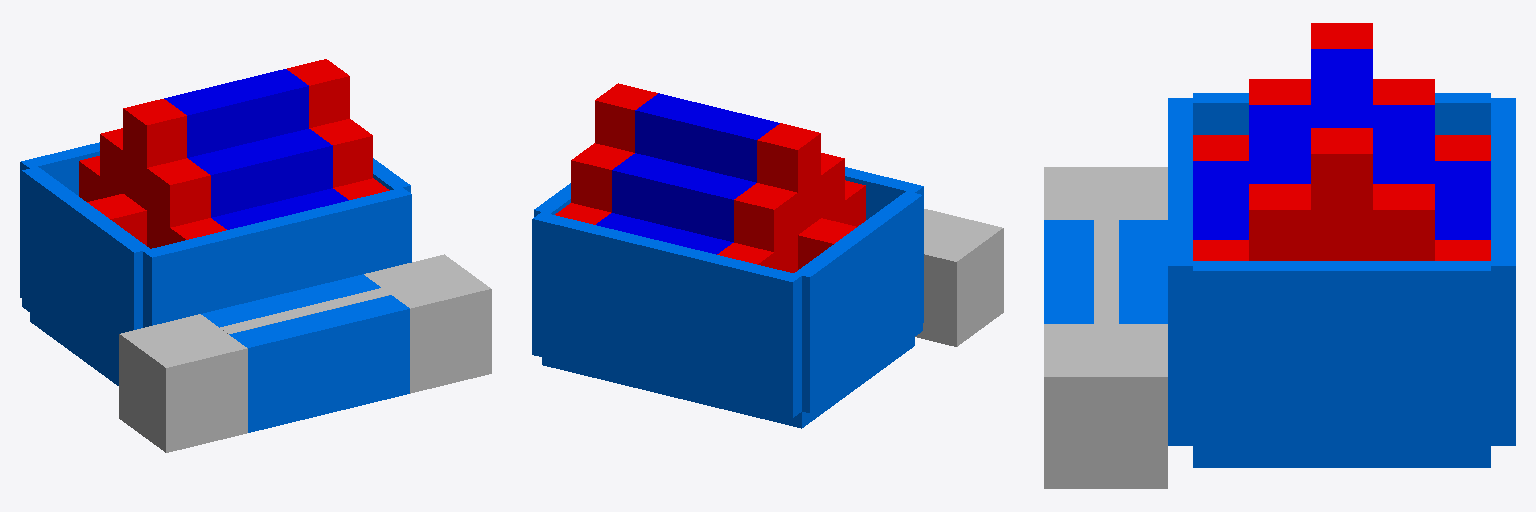
--- What the picture shows (computed from the rendered views, not written in the file) ---
Views: 3 orthographic renders of the robot side by side, from view 1: azimuth 30°, elevation 25°; view 2: azimuth 150°, elevation 25°; view 3: azimuth 270°, elevation 25°.
Robot: battery_box_snap_2unit — 6 links, 5 joints (5 fixed); root link middle_plastic; default pose: every joint at zero.
Visible links, largest first — view 1: box, battery, middle_plastic, start_metal, end_metal, line; view 2: box, battery, start_metal; view 3: box, battery, end_metal, middle_plastic, start_metal, line.
Link boxes in pixels (box(x1,y1,x2,y2)): box: box(20, 142, 411, 385); battery: box(79, 59, 389, 248); middle_plastic: box(201, 274, 409, 432); start_metal: box(119, 314, 247, 452); end_metal: box(364, 254, 491, 393); line: box(220, 288, 390, 333); box: box(532, 167, 923, 428); battery: box(555, 83, 865, 272); start_metal: box(915, 209, 1003, 346); box: box(1168, 93, 1515, 467); battery: box(1193, 23, 1490, 260); end_metal: box(1044, 324, 1167, 488); middle_plastic: box(1044, 220, 1167, 323); start_metal: box(1044, 167, 1167, 219); line: box(1094, 219, 1118, 323).
Size in the robot's own frame: 0.2 by 0.19 by 0.1375 metres.
Geometry: primitives only (box / cylinder / sphere), no mesh files.

robot.urdf — battery_box_snap_2unit:
<?xml version="1.0"?>
<robot name="battery_box_snap_2unit">

  <!-- Battery link -->

    <link name="battery">

        <!-- Battery pixel #0 -->
        <visual>
          <origin xyz="-0.05 0.0 -0.0625" rpy="0 0 0" />
          <geometry>
            <box size="0.025 0.025 0.025" />
          </geometry>
          <material name="battery_mat_0">
            <color rgba="1 0 0 1"/>
          </material>
        </visual>
        <collision>
          <origin xyz="-0.05 0.0 -0.0625" rpy="0 0 0" />
          <geometry>
            <box size="0.025 0.025 0.025" />
          </geometry>
        </collision>

        <!-- Battery pixel #1 -->
        <visual>
          <origin xyz="-0.025 -0.025 -0.0625" rpy="0 0 0" />
          <geometry>
            <box size="0.025 0.025 0.025" />
          </geometry>
          <material name="battery_mat_1">
            <color rgba="1 0 0 1"/>
          </material>
        </visual>
        <collision>
          <origin xyz="-0.025 -0.025 -0.0625" rpy="0 0 0" />
          <geometry>
            <box size="0.025 0.025 0.025" />
          </geometry>
        </collision>

        <!-- Battery pixel #2 -->
        <visual>
          <origin xyz="-0.025 0.0 -0.0625" rpy="0 0 0" />
          <geometry>
            <box size="0.025 0.025 0.025" />
          </geometry>
          <material name="battery_mat_2">
            <color rgba="1 0 0 1"/>
          </material>
        </visual>
        <collision>
          <origin xyz="-0.025 0.0 -0.0625" rpy="0 0 0" />
          <geometry>
            <box size="0.025 0.025 0.025" />
          </geometry>
        </collision>

        <!-- Battery pixel #3 -->
        <visual>
          <origin xyz="-0.025 0.025 -0.0625" rpy="0 0 0" />
          <geometry>
            <box size="0.025 0.025 0.025" />
          </geometry>
          <material name="battery_mat_3">
            <color rgba="1 0 0 1"/>
          </material>
        </visual>
        <collision>
          <origin xyz="-0.025 0.025 -0.0625" rpy="0 0 0" />
          <geometry>
            <box size="0.025 0.025 0.025" />
          </geometry>
        </collision>

        <!-- Battery pixel #4 -->
        <visual>
          <origin xyz="0.0 -0.05 -0.0625" rpy="0 0 0" />
          <geometry>
            <box size="0.025 0.025 0.025" />
          </geometry>
          <material name="battery_mat_4">
            <color rgba="1 0 0 1"/>
          </material>
        </visual>
        <collision>
          <origin xyz="0.0 -0.05 -0.0625" rpy="0 0 0" />
          <geometry>
            <box size="0.025 0.025 0.025" />
          </geometry>
        </collision>

        <!-- Battery pixel #5 -->
        <visual>
          <origin xyz="0.0 -0.025 -0.0625" rpy="0 0 0" />
          <geometry>
            <box size="0.025 0.025 0.025" />
          </geometry>
          <material name="battery_mat_5">
            <color rgba="1 0 0 1"/>
          </material>
        </visual>
        <collision>
          <origin xyz="0.0 -0.025 -0.0625" rpy="0 0 0" />
          <geometry>
            <box size="0.025 0.025 0.025" />
          </geometry>
        </collision>

        <!-- Battery pixel #6 -->
        <visual>
          <origin xyz="0.0 0.0 -0.0625" rpy="0 0 0" />
          <geometry>
            <box size="0.025 0.025 0.025" />
          </geometry>
          <material name="battery_mat_6">
            <color rgba="1 0 0 1"/>
          </material>
        </visual>
        <collision>
          <origin xyz="0.0 0.0 -0.0625" rpy="0 0 0" />
          <geometry>
            <box size="0.025 0.025 0.025" />
          </geometry>
        </collision>

        <!-- Battery pixel #7 -->
        <visual>
          <origin xyz="0.0 0.025 -0.0625" rpy="0 0 0" />
          <geometry>
            <box size="0.025 0.025 0.025" />
          </geometry>
          <material name="battery_mat_7">
            <color rgba="1 0 0 1"/>
          </material>
        </visual>
        <collision>
          <origin xyz="0.0 0.025 -0.0625" rpy="0 0 0" />
          <geometry>
            <box size="0.025 0.025 0.025" />
          </geometry>
        </collision>

        <!-- Battery pixel #8 -->
        <visual>
          <origin xyz="0.0 0.05 -0.0625" rpy="0 0 0" />
          <geometry>
            <box size="0.025 0.025 0.025" />
          </geometry>
          <material name="battery_mat_8">
            <color rgba="1 0 0 1"/>
          </material>
        </visual>
        <collision>
          <origin xyz="0.0 0.05 -0.0625" rpy="0 0 0" />
          <geometry>
            <box size="0.025 0.025 0.025" />
          </geometry>
        </collision>

        <!-- Battery pixel #9 -->
        <visual>
          <origin xyz="0.025 -0.025 -0.0625" rpy="0 0 0" />
          <geometry>
            <box size="0.025 0.025 0.025" />
          </geometry>
          <material name="battery_mat_9">
            <color rgba="1 0 0 1"/>
          </material>
        </visual>
        <collision>
          <origin xyz="0.025 -0.025 -0.0625" rpy="0 0 0" />
          <geometry>
            <box size="0.025 0.025 0.025" />
          </geometry>
        </collision>

        <!-- Battery pixel #10 -->
        <visual>
          <origin xyz="0.025 0.0 -0.0625" rpy="0 0 0" />
          <geometry>
            <box size="0.025 0.025 0.025" />
          </geometry>
          <material name="battery_mat_10">
            <color rgba="1 0 0 1"/>
          </material>
        </visual>
        <collision>
          <origin xyz="0.025 0.0 -0.0625" rpy="0 0 0" />
          <geometry>
            <box size="0.025 0.025 0.025" />
          </geometry>
        </collision>

        <!-- Battery pixel #11 -->
        <visual>
          <origin xyz="0.025 0.025 -0.0625" rpy="0 0 0" />
          <geometry>
            <box size="0.025 0.025 0.025" />
          </geometry>
          <material name="battery_mat_11">
            <color rgba="1 0 0 1"/>
          </material>
        </visual>
        <collision>
          <origin xyz="0.025 0.025 -0.0625" rpy="0 0 0" />
          <geometry>
            <box size="0.025 0.025 0.025" />
          </geometry>
        </collision>

        <!-- Battery pixel #12 -->
        <visual>
          <origin xyz="0.05 0.0 -0.0625" rpy="0 0 0" />
          <geometry>
            <box size="0.025 0.025 0.025" />
          </geometry>
          <material name="battery_mat_12">
            <color rgba="1 0 0 1"/>
          </material>
        </visual>
        <collision>
          <origin xyz="0.05 0.0 -0.0625" rpy="0 0 0" />
          <geometry>
            <box size="0.025 0.025 0.025" />
          </geometry>
        </collision>

        <!-- Battery pixel #13 -->
        <visual>
          <origin xyz="-0.05 0.0 -0.0375" rpy="0 0 0" />
          <geometry>
            <box size="0.025 0.025 0.025" />
          </geometry>
          <material name="battery_mat_13">
            <color rgba="0 0 1 1"/>
          </material>
        </visual>
        <collision>
          <origin xyz="-0.05 0.0 -0.0375" rpy="0 0 0" />
          <geometry>
            <box size="0.025 0.025 0.025" />
          </geometry>
        </collision>

        <!-- Battery pixel #14 -->
        <visual>
          <origin xyz="-0.025 -0.025 -0.0375" rpy="0 0 0" />
          <geometry>
            <box size="0.025 0.025 0.025" />
          </geometry>
          <material name="battery_mat_14">
            <color rgba="0 0 1 1"/>
          </material>
        </visual>
        <collision>
          <origin xyz="-0.025 -0.025 -0.0375" rpy="0 0 0" />
          <geometry>
            <box size="0.025 0.025 0.025" />
          </geometry>
        </collision>

        <!-- Battery pixel #15 -->
        <visual>
          <origin xyz="-0.025 0.0 -0.0375" rpy="0 0 0" />
          <geometry>
            <box size="0.025 0.025 0.025" />
          </geometry>
          <material name="battery_mat_15">
            <color rgba="0 0 1 1"/>
          </material>
        </visual>
        <collision>
          <origin xyz="-0.025 0.0 -0.0375" rpy="0 0 0" />
          <geometry>
            <box size="0.025 0.025 0.025" />
          </geometry>
        </collision>

        <!-- Battery pixel #16 -->
        <visual>
          <origin xyz="-0.025 0.025 -0.0375" rpy="0 0 0" />
          <geometry>
            <box size="0.025 0.025 0.025" />
          </geometry>
          <material name="battery_mat_16">
            <color rgba="0 0 1 1"/>
          </material>
        </visual>
        <collision>
          <origin xyz="-0.025 0.025 -0.0375" rpy="0 0 0" />
          <geometry>
            <box size="0.025 0.025 0.025" />
          </geometry>
        </collision>

        <!-- Battery pixel #17 -->
        <visual>
          <origin xyz="0.0 -0.05 -0.0375" rpy="0 0 0" />
          <geometry>
            <box size="0.025 0.025 0.025" />
          </geometry>
          <material name="battery_mat_17">
            <color rgba="0 0 1 1"/>
          </material>
        </visual>
        <collision>
          <origin xyz="0.0 -0.05 -0.0375" rpy="0 0 0" />
          <geometry>
            <box size="0.025 0.025 0.025" />
          </geometry>
        </collision>

        <!-- Battery pixel #18 -->
        <visual>
          <origin xyz="0.0 -0.025 -0.0375" rpy="0 0 0" />
          <geometry>
            <box size="0.025 0.025 0.025" />
          </geometry>
          <material name="battery_mat_18">
            <color rgba="0 0 1 1"/>
          </material>
        </visual>
        <collision>
          <origin xyz="0.0 -0.025 -0.0375" rpy="0 0 0" />
          <geometry>
            <box size="0.025 0.025 0.025" />
          </geometry>
        </collision>

        <!-- Battery pixel #19 -->
        <visual>
          <origin xyz="0.0 0.0 -0.0375" rpy="0 0 0" />
          <geometry>
            <box size="0.025 0.025 0.025" />
          </geometry>
          <material name="battery_mat_19">
            <color rgba="0 0 1 1"/>
          </material>
        </visual>
        <collision>
          <origin xyz="0.0 0.0 -0.0375" rpy="0 0 0" />
          <geometry>
            <box size="0.025 0.025 0.025" />
          </geometry>
        </collision>

        <!-- Battery pixel #20 -->
        <visual>
          <origin xyz="0.0 0.025 -0.0375" rpy="0 0 0" />
          <geometry>
            <box size="0.025 0.025 0.025" />
          </geometry>
          <material name="battery_mat_20">
            <color rgba="0 0 1 1"/>
          </material>
        </visual>
        <collision>
          <origin xyz="0.0 0.025 -0.0375" rpy="0 0 0" />
          <geometry>
            <box size="0.025 0.025 0.025" />
          </geometry>
        </collision>

        <!-- Battery pixel #21 -->
        <visual>
          <origin xyz="0.0 0.05 -0.0375" rpy="0 0 0" />
          <geometry>
            <box size="0.025 0.025 0.025" />
          </geometry>
          <material name="battery_mat_21">
            <color rgba="0 0 1 1"/>
          </material>
        </visual>
        <collision>
          <origin xyz="0.0 0.05 -0.0375" rpy="0 0 0" />
          <geometry>
            <box size="0.025 0.025 0.025" />
          </geometry>
        </collision>

        <!-- Battery pixel #22 -->
        <visual>
          <origin xyz="0.025 -0.025 -0.0375" rpy="0 0 0" />
          <geometry>
            <box size="0.025 0.025 0.025" />
          </geometry>
          <material name="battery_mat_22">
            <color rgba="0 0 1 1"/>
          </material>
        </visual>
        <collision>
          <origin xyz="0.025 -0.025 -0.0375" rpy="0 0 0" />
          <geometry>
            <box size="0.025 0.025 0.025" />
          </geometry>
        </collision>

        <!-- Battery pixel #23 -->
        <visual>
          <origin xyz="0.025 0.0 -0.0375" rpy="0 0 0" />
          <geometry>
            <box size="0.025 0.025 0.025" />
          </geometry>
          <material name="battery_mat_23">
            <color rgba="0 0 1 1"/>
          </material>
        </visual>
        <collision>
          <origin xyz="0.025 0.0 -0.0375" rpy="0 0 0" />
          <geometry>
            <box size="0.025 0.025 0.025" />
          </geometry>
        </collision>

        <!-- Battery pixel #24 -->
        <visual>
          <origin xyz="0.025 0.025 -0.0375" rpy="0 0 0" />
          <geometry>
            <box size="0.025 0.025 0.025" />
          </geometry>
          <material name="battery_mat_24">
            <color rgba="0 0 1 1"/>
          </material>
        </visual>
        <collision>
          <origin xyz="0.025 0.025 -0.0375" rpy="0 0 0" />
          <geometry>
            <box size="0.025 0.025 0.025" />
          </geometry>
        </collision>

        <!-- Battery pixel #25 -->
        <visual>
          <origin xyz="0.05 0.0 -0.0375" rpy="0 0 0" />
          <geometry>
            <box size="0.025 0.025 0.025" />
          </geometry>
          <material name="battery_mat_25">
            <color rgba="0 0 1 1"/>
          </material>
        </visual>
        <collision>
          <origin xyz="0.05 0.0 -0.0375" rpy="0 0 0" />
          <geometry>
            <box size="0.025 0.025 0.025" />
          </geometry>
        </collision>

        <!-- Battery pixel #26 -->
        <visual>
          <origin xyz="-0.05 0.0 -0.012499999999999997" rpy="0 0 0" />
          <geometry>
            <box size="0.025 0.025 0.025" />
          </geometry>
          <material name="battery_mat_26">
            <color rgba="0 0 1 1"/>
          </material>
        </visual>
        <collision>
          <origin xyz="-0.05 0.0 -0.012499999999999997" rpy="0 0 0" />
          <geometry>
            <box size="0.025 0.025 0.025" />
          </geometry>
        </collision>

        <!-- Battery pixel #27 -->
        <visual>
          <origin xyz="-0.025 -0.025 -0.012499999999999997" rpy="0 0 0" />
          <geometry>
            <box size="0.025 0.025 0.025" />
          </geometry>
          <material name="battery_mat_27">
            <color rgba="0 0 1 1"/>
          </material>
        </visual>
        <collision>
          <origin xyz="-0.025 -0.025 -0.012499999999999997" rpy="0 0 0" />
          <geometry>
            <box size="0.025 0.025 0.025" />
          </geometry>
        </collision>

        <!-- Battery pixel #28 -->
        <visual>
          <origin xyz="-0.025 0.0 -0.012499999999999997" rpy="0 0 0" />
          <geometry>
            <box size="0.025 0.025 0.025" />
          </geometry>
          <material name="battery_mat_28">
            <color rgba="0 0 1 1"/>
          </material>
        </visual>
        <collision>
          <origin xyz="-0.025 0.0 -0.012499999999999997" rpy="0 0 0" />
          <geometry>
            <box size="0.025 0.025 0.025" />
          </geometry>
        </collision>

        <!-- Battery pixel #29 -->
        <visual>
          <origin xyz="-0.025 0.025 -0.012499999999999997" rpy="0 0 0" />
          <geometry>
            <box size="0.025 0.025 0.025" />
          </geometry>
          <material name="battery_mat_29">
            <color rgba="0 0 1 1"/>
          </material>
        </visual>
        <collision>
          <origin xyz="-0.025 0.025 -0.012499999999999997" rpy="0 0 0" />
          <geometry>
            <box size="0.025 0.025 0.025" />
          </geometry>
        </collision>

        <!-- Battery pixel #30 -->
        <visual>
          <origin xyz="0.0 -0.05 -0.012499999999999997" rpy="0 0 0" />
          <geometry>
            <box size="0.025 0.025 0.025" />
          </geometry>
          <material name="battery_mat_30">
            <color rgba="0 0 1 1"/>
          </material>
        </visual>
        <collision>
          <origin xyz="0.0 -0.05 -0.012499999999999997" rpy="0 0 0" />
          <geometry>
            <box size="0.025 0.025 0.025" />
          </geometry>
        </collision>

        <!-- Battery pixel #31 -->
        <visual>
          <origin xyz="0.0 -0.025 -0.012499999999999997" rpy="0 0 0" />
          <geometry>
            <box size="0.025 0.025 0.025" />
          </geometry>
          <material name="battery_mat_31">
            <color rgba="0 0 1 1"/>
          </material>
        </visual>
        <collision>
          <origin xyz="0.0 -0.025 -0.012499999999999997" rpy="0 0 0" />
          <geometry>
            <box size="0.025 0.025 0.025" />
          </geometry>
        </collision>

        <!-- Battery pixel #32 -->
        <visual>
          <origin xyz="0.0 0.0 -0.012499999999999997" rpy="0 0 0" />
          <geometry>
            <box size="0.025 0.025 0.025" />
          </geometry>
          <material name="battery_mat_32">
            <color rgba="0 0 1 1"/>
          </material>
        </visual>
        <collision>
          <origin xyz="0.0 0.0 -0.012499999999999997" rpy="0 0 0" />
          <geometry>
            <box size="0.025 0.025 0.025" />
          </geometry>
        </collision>

        <!-- Battery pixel #33 -->
        <visual>
          <origin xyz="0.0 0.025 -0.012499999999999997" rpy="0 0 0" />
          <geometry>
            <box size="0.025 0.025 0.025" />
          </geometry>
          <material name="battery_mat_33">
            <color rgba="0 0 1 1"/>
          </material>
        </visual>
        <collision>
          <origin xyz="0.0 0.025 -0.012499999999999997" rpy="0 0 0" />
          <geometry>
            <box size="0.025 0.025 0.025" />
          </geometry>
        </collision>

        <!-- Battery pixel #34 -->
        <visual>
          <origin xyz="0.0 0.05 -0.012499999999999997" rpy="0 0 0" />
          <geometry>
            <box size="0.025 0.025 0.025" />
          </geometry>
          <material name="battery_mat_34">
            <color rgba="0 0 1 1"/>
          </material>
        </visual>
        <collision>
          <origin xyz="0.0 0.05 -0.012499999999999997" rpy="0 0 0" />
          <geometry>
            <box size="0.025 0.025 0.025" />
          </geometry>
        </collision>

        <!-- Battery pixel #35 -->
        <visual>
          <origin xyz="0.025 -0.025 -0.012499999999999997" rpy="0 0 0" />
          <geometry>
            <box size="0.025 0.025 0.025" />
          </geometry>
          <material name="battery_mat_35">
            <color rgba="0 0 1 1"/>
          </material>
        </visual>
        <collision>
          <origin xyz="0.025 -0.025 -0.012499999999999997" rpy="0 0 0" />
          <geometry>
            <box size="0.025 0.025 0.025" />
          </geometry>
        </collision>

        <!-- Battery pixel #36 -->
        <visual>
          <origin xyz="0.025 0.0 -0.012499999999999997" rpy="0 0 0" />
          <geometry>
            <box size="0.025 0.025 0.025" />
          </geometry>
          <material name="battery_mat_36">
            <color rgba="0 0 1 1"/>
          </material>
        </visual>
        <collision>
          <origin xyz="0.025 0.0 -0.012499999999999997" rpy="0 0 0" />
          <geometry>
            <box size="0.025 0.025 0.025" />
          </geometry>
        </collision>

        <!-- Battery pixel #37 -->
        <visual>
          <origin xyz="0.025 0.025 -0.012499999999999997" rpy="0 0 0" />
          <geometry>
            <box size="0.025 0.025 0.025" />
          </geometry>
          <material name="battery_mat_37">
            <color rgba="0 0 1 1"/>
          </material>
        </visual>
        <collision>
          <origin xyz="0.025 0.025 -0.012499999999999997" rpy="0 0 0" />
          <geometry>
            <box size="0.025 0.025 0.025" />
          </geometry>
        </collision>

        <!-- Battery pixel #38 -->
        <visual>
          <origin xyz="0.05 0.0 -0.012499999999999997" rpy="0 0 0" />
          <geometry>
            <box size="0.025 0.025 0.025" />
          </geometry>
          <material name="battery_mat_38">
            <color rgba="0 0 1 1"/>
          </material>
        </visual>
        <collision>
          <origin xyz="0.05 0.0 -0.012499999999999997" rpy="0 0 0" />
          <geometry>
            <box size="0.025 0.025 0.025" />
          </geometry>
        </collision>

        <!-- Battery pixel #39 -->
        <visual>
          <origin xyz="-0.05 0.0 0.012500000000000004" rpy="0 0 0" />
          <geometry>
            <box size="0.025 0.025 0.025" />
          </geometry>
          <material name="battery_mat_39">
            <color rgba="0 0 1 1"/>
          </material>
        </visual>
        <collision>
          <origin xyz="-0.05 0.0 0.012500000000000004" rpy="0 0 0" />
          <geometry>
            <box size="0.025 0.025 0.025" />
          </geometry>
        </collision>

        <!-- Battery pixel #40 -->
        <visual>
          <origin xyz="-0.025 -0.025 0.012500000000000004" rpy="0 0 0" />
          <geometry>
            <box size="0.025 0.025 0.025" />
          </geometry>
          <material name="battery_mat_40">
            <color rgba="0 0 1 1"/>
          </material>
        </visual>
        <collision>
          <origin xyz="-0.025 -0.025 0.012500000000000004" rpy="0 0 0" />
          <geometry>
            <box size="0.025 0.025 0.025" />
          </geometry>
        </collision>

        <!-- Battery pixel #41 -->
        <visual>
          <origin xyz="-0.025 0.0 0.012500000000000004" rpy="0 0 0" />
          <geometry>
            <box size="0.025 0.025 0.025" />
          </geometry>
          <material name="battery_mat_41">
            <color rgba="0 0 1 1"/>
          </material>
        </visual>
        <collision>
          <origin xyz="-0.025 0.0 0.012500000000000004" rpy="0 0 0" />
          <geometry>
            <box size="0.025 0.025 0.025" />
          </geometry>
        </collision>

        <!-- Battery pixel #42 -->
        <visual>
          <origin xyz="-0.025 0.025 0.012500000000000004" rpy="0 0 0" />
          <geometry>
            <box size="0.025 0.025 0.025" />
          </geometry>
          <material name="battery_mat_42">
            <color rgba="0 0 1 1"/>
          </material>
        </visual>
        <collision>
          <origin xyz="-0.025 0.025 0.012500000000000004" rpy="0 0 0" />
          <geometry>
            <box size="0.025 0.025 0.025" />
          </geometry>
        </collision>

        <!-- Battery pixel #43 -->
        <visual>
          <origin xyz="0.0 -0.05 0.012500000000000004" rpy="0 0 0" />
          <geometry>
            <box size="0.025 0.025 0.025" />
          </geometry>
          <material name="battery_mat_43">
            <color rgba="0 0 1 1"/>
          </material>
        </visual>
        <collision>
          <origin xyz="0.0 -0.05 0.012500000000000004" rpy="0 0 0" />
          <geometry>
            <box size="0.025 0.025 0.025" />
          </geometry>
        </collision>

        <!-- Battery pixel #44 -->
        <visual>
          <origin xyz="0.0 -0.025 0.012500000000000004" rpy="0 0 0" />
          <geometry>
            <box size="0.025 0.025 0.025" />
          </geometry>
          <material name="battery_mat_44">
            <color rgba="0 0 1 1"/>
          </material>
        </visual>
        <collision>
          <origin xyz="0.0 -0.025 0.012500000000000004" rpy="0 0 0" />
          <geometry>
            <box size="0.025 0.025 0.025" />
          </geometry>
        </collision>

        <!-- Battery pixel #45 -->
        <visual>
          <origin xyz="0.0 0.0 0.012500000000000004" rpy="0 0 0" />
          <geometry>
            <box size="0.025 0.025 0.025" />
          </geometry>
          <material name="battery_mat_45">
            <color rgba="0 0 1 1"/>
          </material>
        </visual>
        <collision>
          <origin xyz="0.0 0.0 0.012500000000000004" rpy="0 0 0" />
          <geometry>
            <box size="0.025 0.025 0.025" />
          </geometry>
        </collision>

        <!-- Battery pixel #46 -->
        <visual>
          <origin xyz="0.0 0.025 0.012500000000000004" rpy="0 0 0" />
          <geometry>
            <box size="0.025 0.025 0.025" />
          </geometry>
          <material name="battery_mat_46">
            <color rgba="0 0 1 1"/>
          </material>
        </visual>
        <collision>
          <origin xyz="0.0 0.025 0.012500000000000004" rpy="0 0 0" />
          <geometry>
            <box size="0.025 0.025 0.025" />
          </geometry>
        </collision>

        <!-- Battery pixel #47 -->
        <visual>
          <origin xyz="0.0 0.05 0.012500000000000004" rpy="0 0 0" />
          <geometry>
            <box size="0.025 0.025 0.025" />
          </geometry>
          <material name="battery_mat_47">
            <color rgba="0 0 1 1"/>
          </material>
        </visual>
        <collision>
          <origin xyz="0.0 0.05 0.012500000000000004" rpy="0 0 0" />
          <geometry>
            <box size="0.025 0.025 0.025" />
          </geometry>
        </collision>

        <!-- Battery pixel #48 -->
        <visual>
          <origin xyz="0.025 -0.025 0.012500000000000004" rpy="0 0 0" />
          <geometry>
            <box size="0.025 0.025 0.025" />
          </geometry>
          <material name="battery_mat_48">
            <color rgba="0 0 1 1"/>
          </material>
        </visual>
        <collision>
          <origin xyz="0.025 -0.025 0.012500000000000004" rpy="0 0 0" />
          <geometry>
            <box size="0.025 0.025 0.025" />
          </geometry>
        </collision>

        <!-- Battery pixel #49 -->
        <visual>
          <origin xyz="0.025 0.0 0.012500000000000004" rpy="0 0 0" />
          <geometry>
            <box size="0.025 0.025 0.025" />
          </geometry>
          <material name="battery_mat_49">
            <color rgba="0 0 1 1"/>
          </material>
        </visual>
        <collision>
          <origin xyz="0.025 0.0 0.012500000000000004" rpy="0 0 0" />
          <geometry>
            <box size="0.025 0.025 0.025" />
          </geometry>
        </collision>

        <!-- Battery pixel #50 -->
        <visual>
          <origin xyz="0.025 0.025 0.012500000000000004" rpy="0 0 0" />
          <geometry>
            <box size="0.025 0.025 0.025" />
          </geometry>
          <material name="battery_mat_50">
            <color rgba="0 0 1 1"/>
          </material>
        </visual>
        <collision>
          <origin xyz="0.025 0.025 0.012500000000000004" rpy="0 0 0" />
          <geometry>
            <box size="0.025 0.025 0.025" />
          </geometry>
        </collision>

        <!-- Battery pixel #51 -->
        <visual>
          <origin xyz="0.05 0.0 0.012500000000000004" rpy="0 0 0" />
          <geometry>
            <box size="0.025 0.025 0.025" />
          </geometry>
          <material name="battery_mat_51">
            <color rgba="0 0 1 1"/>
          </material>
        </visual>
        <collision>
          <origin xyz="0.05 0.0 0.012500000000000004" rpy="0 0 0" />
          <geometry>
            <box size="0.025 0.025 0.025" />
          </geometry>
        </collision>

        <!-- Battery pixel #52 -->
        <visual>
          <origin xyz="-0.05 0.0 0.0375" rpy="0 0 0" />
          <geometry>
            <box size="0.025 0.025 0.025" />
          </geometry>
          <material name="battery_mat_52">
            <color rgba="1 0 0 1"/>
          </material>
        </visual>
        <collision>
          <origin xyz="-0.05 0.0 0.0375" rpy="0 0 0" />
          <geometry>
            <box size="0.025 0.025 0.025" />
          </geometry>
        </collision>

        <!-- Battery pixel #53 -->
        <visual>
          <origin xyz="-0.025 -0.025 0.0375" rpy="0 0 0" />
          <geometry>
            <box size="0.025 0.025 0.025" />
          </geometry>
          <material name="battery_mat_53">
            <color rgba="1 0 0 1"/>
          </material>
        </visual>
        <collision>
          <origin xyz="-0.025 -0.025 0.0375" rpy="0 0 0" />
          <geometry>
            <box size="0.025 0.025 0.025" />
          </geometry>
        </collision>

        <!-- Battery pixel #54 -->
        <visual>
          <origin xyz="-0.025 0.0 0.0375" rpy="0 0 0" />
          <geometry>
            <box size="0.025 0.025 0.025" />
          </geometry>
          <material name="battery_mat_54">
            <color rgba="1 0 0 1"/>
          </material>
        </visual>
        <collision>
          <origin xyz="-0.025 0.0 0.0375" rpy="0 0 0" />
          <geometry>
            <box size="0.025 0.025 0.025" />
          </geometry>
        </collision>

        <!-- Battery pixel #55 -->
        <visual>
          <origin xyz="-0.025 0.025 0.0375" rpy="0 0 0" />
          <geometry>
            <box size="0.025 0.025 0.025" />
          </geometry>
          <material name="battery_mat_55">
            <color rgba="1 0 0 1"/>
          </material>
        </visual>
        <collision>
          <origin xyz="-0.025 0.025 0.0375" rpy="0 0 0" />
          <geometry>
            <box size="0.025 0.025 0.025" />
          </geometry>
        </collision>

        <!-- Battery pixel #56 -->
        <visual>
          <origin xyz="0.0 -0.05 0.0375" rpy="0 0 0" />
          <geometry>
            <box size="0.025 0.025 0.025" />
          </geometry>
          <material name="battery_mat_56">
            <color rgba="1 0 0 1"/>
          </material>
        </visual>
        <collision>
          <origin xyz="0.0 -0.05 0.0375" rpy="0 0 0" />
          <geometry>
            <box size="0.025 0.025 0.025" />
          </geometry>
        </collision>

        <!-- Battery pixel #57 -->
        <visual>
          <origin xyz="0.0 -0.025 0.0375" rpy="0 0 0" />
          <geometry>
            <box size="0.025 0.025 0.025" />
          </geometry>
          <material name="battery_mat_57">
            <color rgba="1 0 0 1"/>
          </material>
        </visual>
        <collision>
          <origin xyz="0.0 -0.025 0.0375" rpy="0 0 0" />
          <geometry>
            <box size="0.025 0.025 0.025" />
          </geometry>
        </collision>

        <!-- Battery pixel #58 -->
        <visual>
          <origin xyz="0.0 0.0 0.0375" rpy="0 0 0" />
          <geometry>
            <box size="0.025 0.025 0.025" />
          </geometry>
          <material name="battery_mat_58">
            <color rgba="1 0 0 1"/>
          </material>
        </visual>
        <collision>
          <origin xyz="0.0 0.0 0.0375" rpy="0 0 0" />
          <geometry>
            <box size="0.025 0.025 0.025" />
          </geometry>
        </collision>

        <!-- Battery pixel #59 -->
        <visual>
          <origin xyz="0.0 0.025 0.0375" rpy="0 0 0" />
          <geometry>
            <box size="0.025 0.025 0.025" />
          </geometry>
          <material name="battery_mat_59">
            <color rgba="1 0 0 1"/>
          </material>
        </visual>
        <collision>
          <origin xyz="0.0 0.025 0.0375" rpy="0 0 0" />
          <geometry>
            <box size="0.025 0.025 0.025" />
          </geometry>
        </collision>

        <!-- Battery pixel #60 -->
        <visual>
          <origin xyz="0.0 0.05 0.0375" rpy="0 0 0" />
          <geometry>
            <box size="0.025 0.025 0.025" />
          </geometry>
          <material name="battery_mat_60">
            <color rgba="1 0 0 1"/>
          </material>
        </visual>
        <collision>
          <origin xyz="0.0 0.05 0.0375" rpy="0 0 0" />
          <geometry>
            <box size="0.025 0.025 0.025" />
          </geometry>
        </collision>

        <!-- Battery pixel #61 -->
        <visual>
          <origin xyz="0.025 -0.025 0.0375" rpy="0 0 0" />
          <geometry>
            <box size="0.025 0.025 0.025" />
          </geometry>
          <material name="battery_mat_61">
            <color rgba="1 0 0 1"/>
          </material>
        </visual>
        <collision>
          <origin xyz="0.025 -0.025 0.0375" rpy="0 0 0" />
          <geometry>
            <box size="0.025 0.025 0.025" />
          </geometry>
        </collision>

        <!-- Battery pixel #62 -->
        <visual>
          <origin xyz="0.025 0.0 0.0375" rpy="0 0 0" />
          <geometry>
            <box size="0.025 0.025 0.025" />
          </geometry>
          <material name="battery_mat_62">
            <color rgba="1 0 0 1"/>
          </material>
        </visual>
        <collision>
          <origin xyz="0.025 0.0 0.0375" rpy="0 0 0" />
          <geometry>
            <box size="0.025 0.025 0.025" />
          </geometry>
        </collision>

        <!-- Battery pixel #63 -->
        <visual>
          <origin xyz="0.025 0.025 0.0375" rpy="0 0 0" />
          <geometry>
            <box size="0.025 0.025 0.025" />
          </geometry>
          <material name="battery_mat_63">
            <color rgba="1 0 0 1"/>
          </material>
        </visual>
        <collision>
          <origin xyz="0.025 0.025 0.0375" rpy="0 0 0" />
          <geometry>
            <box size="0.025 0.025 0.025" />
          </geometry>
        </collision>

        <!-- Battery pixel #64 -->
        <visual>
          <origin xyz="0.05 0.0 0.0375" rpy="0 0 0" />
          <geometry>
            <box size="0.025 0.025 0.025" />
          </geometry>
          <material name="battery_mat_64">
            <color rgba="1 0 0 1"/>
          </material>
        </visual>
        <collision>
          <origin xyz="0.05 0.0 0.0375" rpy="0 0 0" />
          <geometry>
            <box size="0.025 0.025 0.025" />
          </geometry>
        </collision>

        <!-- Battery pixel #65 -->
        <visual>
          <origin xyz="0.0 0.0 0.0625" rpy="0 0 0" />
          <geometry>
            <box size="0.025 0.025 0.025" />
          </geometry>
          <material name="battery_mat_65">
            <color rgba="1 0 0 1"/>
          </material>
        </visual>
        <collision>
          <origin xyz="0.0 0.0 0.0625" rpy="0 0 0" />
          <geometry>
            <box size="0.025 0.025 0.025" />
          </geometry>
        </collision>

    </link>


  <!-- Box link -->

    <link name="box">

        <!-- Box wall #0 -->
        <visual>
          <origin xyz="-0.0125 0.0 -0.04" rpy="0 0 0" />
          <geometry>
            <box size="0.08 0.12000000000000001 0.01" />
          </geometry>
          <material name="box_wall_mat_0">
            <color rgba="0 0.5 1 1"/>
          </material>
        </visual>
        <collision>
          <origin xyz="-0.0125 0.0 -0.04" rpy="0 0 0" />
          <geometry>
            <box size="0.08 0.12000000000000001 0.01" />
          </geometry>
        </collision>

        <!-- Box wall #1 -->
        <visual>
          <origin xyz="-0.0125 0.0 0.12" rpy="0 0 0" />
          <geometry>
            <box size="0.08 0.12000000000000001 0.01" />
          </geometry>
          <material name="box_wall_mat_1">
            <color rgba="0 0.5 1 1"/>
          </material>
        </visual>
        <collision>
          <origin xyz="-0.0125 0.0 0.12" rpy="0 0 0" />
          <geometry>
            <box size="0.08 0.12000000000000001 0.01" />
          </geometry>
        </collision>

        <!-- Box wall #2 -->
        <visual>
          <origin xyz="-0.0125 -0.065 0.04" rpy="0 0 0" />
          <geometry>
            <box size="0.08 0.01 0.16" />
          </geometry>
          <material name="box_wall_mat_2">
            <color rgba="0 0.5 1 1"/>
          </material>
        </visual>
        <collision>
          <origin xyz="-0.0125 -0.065 0.04" rpy="0 0 0" />
          <geometry>
            <box size="0.08 0.01 0.16" />
          </geometry>
        </collision>

        <!-- Box wall #3 -->
        <visual>
          <origin xyz="-0.0125 0.065 0.04" rpy="0 0 0" />
          <geometry>
            <box size="0.08 0.01 0.16" />
          </geometry>
          <material name="box_wall_mat_3">
            <color rgba="0 0.5 1 1"/>
          </material>
        </visual>
        <collision>
          <origin xyz="-0.0125 0.065 0.04" rpy="0 0 0" />
          <geometry>
            <box size="0.08 0.01 0.16" />
          </geometry>
        </collision>

        <!-- Box wall #4 -->
        <visual>
          <origin xyz="-0.0575 0.0 0.04" rpy="0 0 0" />
          <geometry>
            <box size="0.01 0.12000000000000001 0.16" />
          </geometry>
          <material name="box_wall_mat_4">
            <color rgba="0 0.5 1 1"/>
          </material>
        </visual>
        <collision>
          <origin xyz="-0.0575 0.0 0.04" rpy="0 0 0" />
          <geometry>
            <box size="0.01 0.12000000000000001 0.16" />
          </geometry>
        </collision>

    </link>


  <!-- Battery->Box fixed joint -->

    <joint name="battery_box_joint" type="fixed">
      <parent link="battery"/>
      <child link="box"/>
      <origin xyz="-0.0125 0.0 -0.04" rpy="0 0 0"/>
    </joint>


  <!-- Snap connector (2-unit) -->

    <!-- Snap connector (2-unit) -->

    <link name="middle_plastic">
      <visual>
        <origin xyz="0 0 0" rpy="0 0 0" />
        <geometry>
          <box size="0.1 0.05 0.05" />
        </geometry>
        <material name="middle_plastic_mat">
          <color rgba="0.0 0.5 1.0 1.0"/>
        </material>
      </visual>
      <collision>
        <origin xyz="0 0 0" rpy="0 0 0" />
        <geometry>
          <box size="0.1 0.05 0.05" />
        </geometry>
      </collision>
    </link>


    <link name="start_metal">
      <visual>
        <origin xyz="0 0 0" rpy="0 0 0" />
        <geometry>
          <box size="0.05 0.05 0.05" />
        </geometry>
        <material name="start_metal_mat">
          <color rgba="0.8 0.8 0.8 1.0"/>
        </material>
      </visual>
      <collision>
        <origin xyz="0 0 0" rpy="0 0 0" />
        <geometry>
          <box size="0.05 0.05 0.05" />
        </geometry>
      </collision>
    </link>


    <link name="end_metal">
      <visual>
        <origin xyz="0 0 0" rpy="0 0 0" />
        <geometry>
          <box size="0.05 0.05 0.05" />
        </geometry>
        <material name="end_metal_mat">
          <color rgba="0.8 0.8 0.8 1.0"/>
        </material>
      </visual>
      <collision>
        <origin xyz="0 0 0" rpy="0 0 0" />
        <geometry>
          <box size="0.05 0.05 0.05" />
        </geometry>
      </collision>
    </link>


    <link name="line">
      <visual>
        <origin xyz="0 0 0" rpy="0 0 0" />
        <geometry>
          <box size="0.1 0.01 0.0001" />
        </geometry>
        <material name="line_mat">
          <color rgba="0.8 0.8 0.8 1.0"/>
        </material>
      </visual>
      <collision>
        <origin xyz="0 0 0" rpy="0 0 0" />
        <geometry>
          <box size="0.1 0.01 0.0001" />
        </geometry>
      </collision>
    </link>



        <joint name="start_metal_joint" type="fixed">
          <parent link="middle_plastic"/>
          <child link="start_metal"/>
          <origin xyz="-0.07500000000000001 0 0" rpy="0 0 0"/>
        </joint>


        <joint name="end_metal_joint" type="fixed">
          <parent link="middle_plastic"/>
          <child link="end_metal"/>
          <origin xyz="0.07500000000000001 0 0" rpy="0 0 0"/>
        </joint>


        <joint name="line_joint" type="fixed">
          <parent link="middle_plastic"/>
          <child link="line"/>
          <origin xyz="0 0 0.025050000000000003" rpy="0 0 0"/>
        </joint>



  <!-- Attach snap to battery -->

    <!-- Attach the snap connector to the battery link -->
    <joint name="attach_snap_to_battery" type="fixed">
      <parent link="middle_plastic"/>
      <child link="battery"/>
      <origin xyz="0.0 0.095 0.05" rpy="0 -1.5707963267948966 0"/>
    </joint>


</robot>
